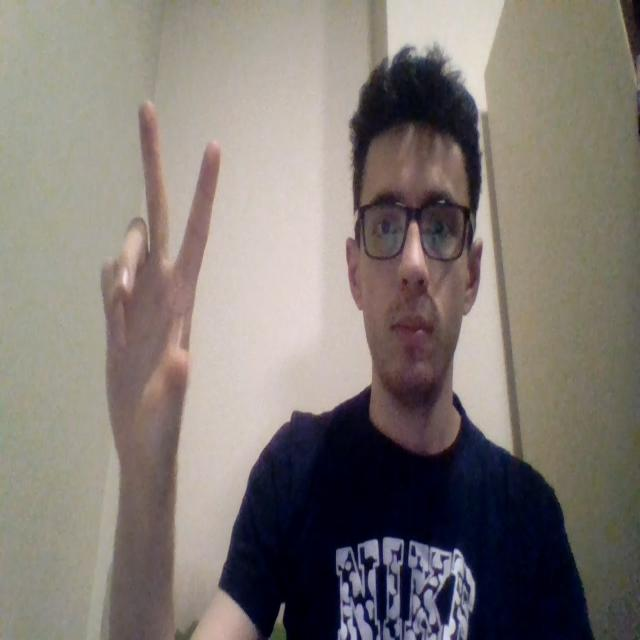no: (100, 98, 221, 472)
